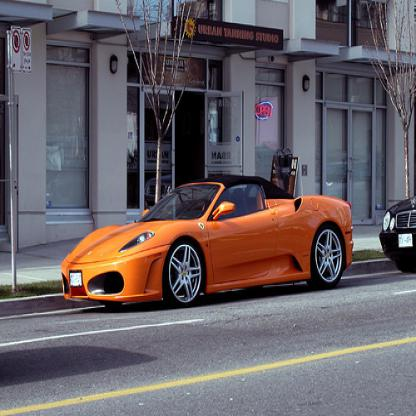car: (55, 172, 362, 314), (380, 193, 416, 274)
